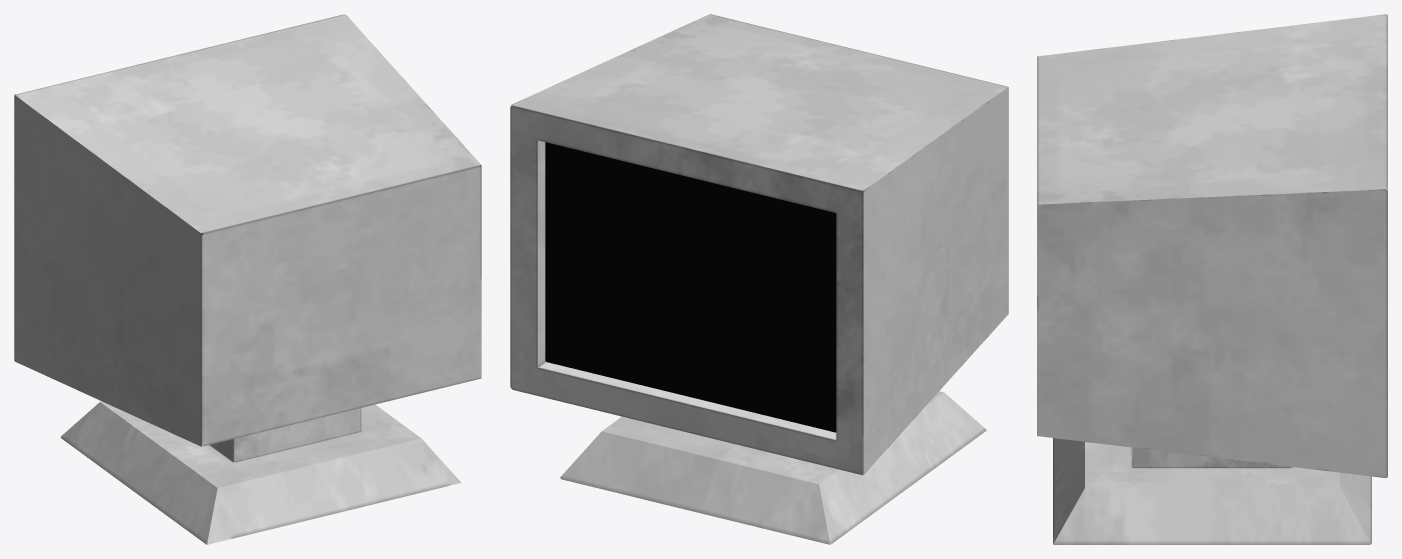
Rendered from Computer.fbx.
3 renders of one model, left to right at view 1: azimuth 30°, elevation 25°; view 2: azimuth 150°, elevation 25°; view 3: azimuth 270°, elevation 25°, orthographic. The views are drawn at different scales.
Parts seen in each view (by area): view 1: Computer; view 2: Computer; view 3: Computer.
Boxes of the visible parts, <box> form: Computer: <box>14,14,481,544</box>; Computer: <box>510,14,1008,544</box>; Computer: <box>1037,14,1387,544</box>.
Bounding box in the file's own units: 26 × 26 × 22.
